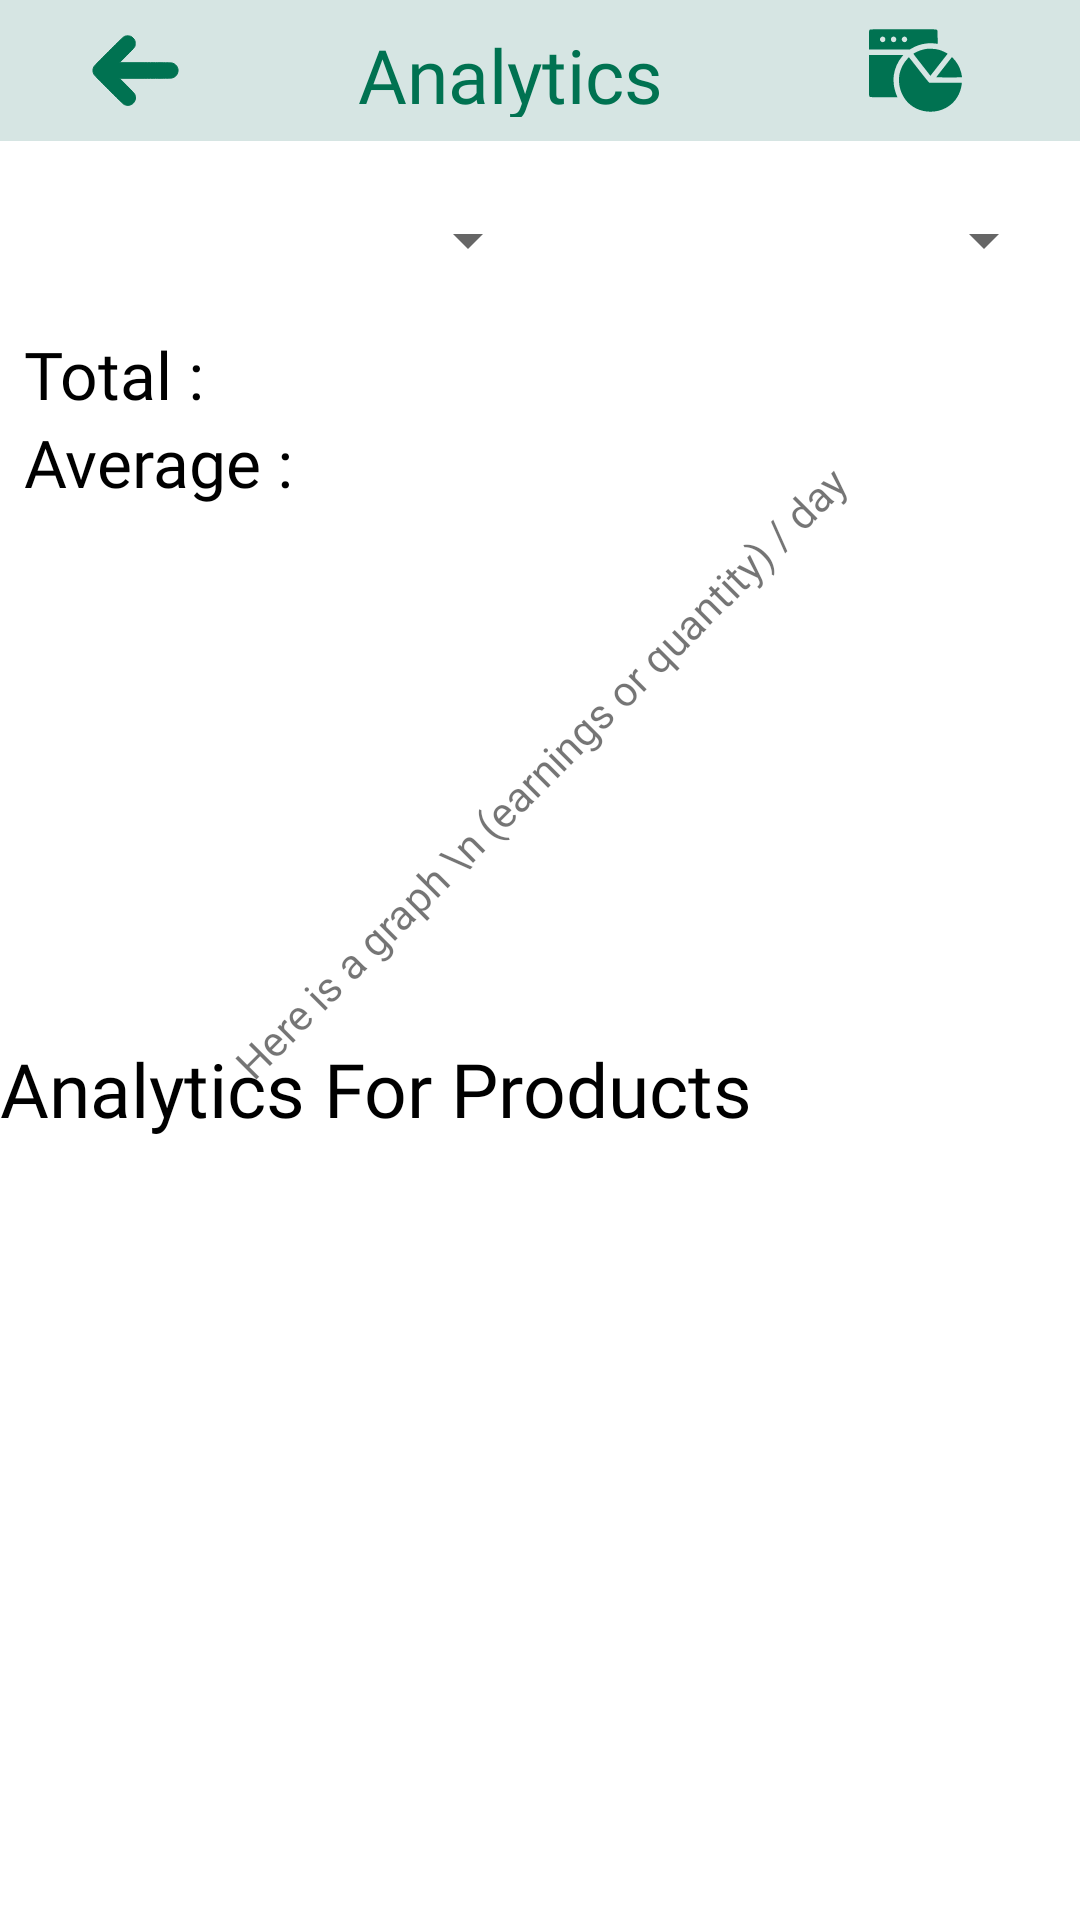

Screen size 1080px x 1920px. Icon name, then its center in pixels as [x,y]:
back: [135,70]
pie chart: [915,70]
